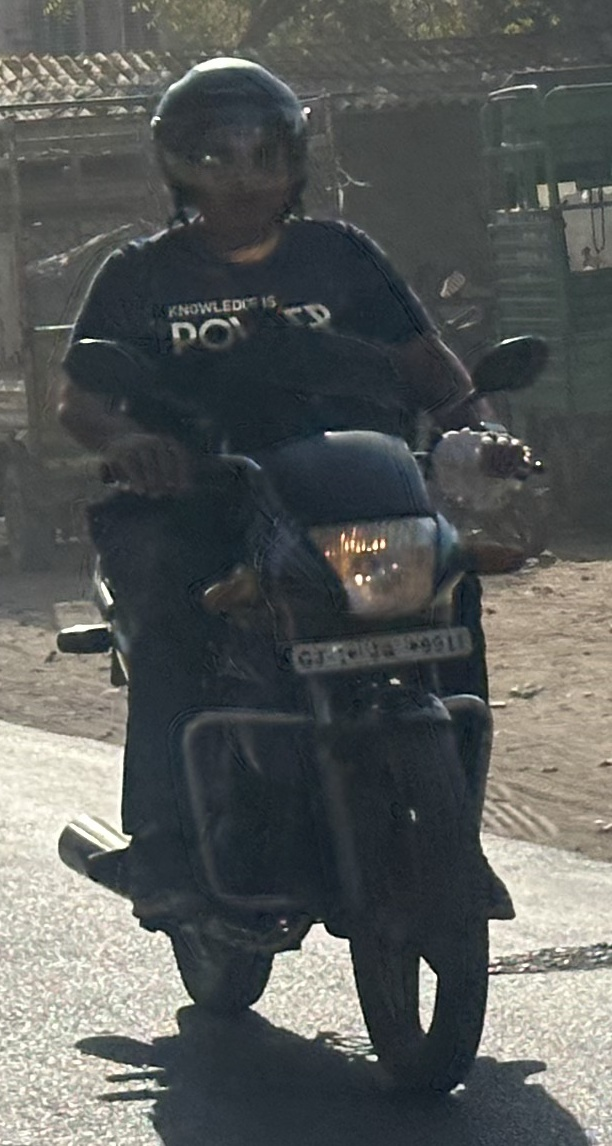BikeWithRider: (35, 42, 565, 1110)
Helmet: (132, 47, 331, 253)
